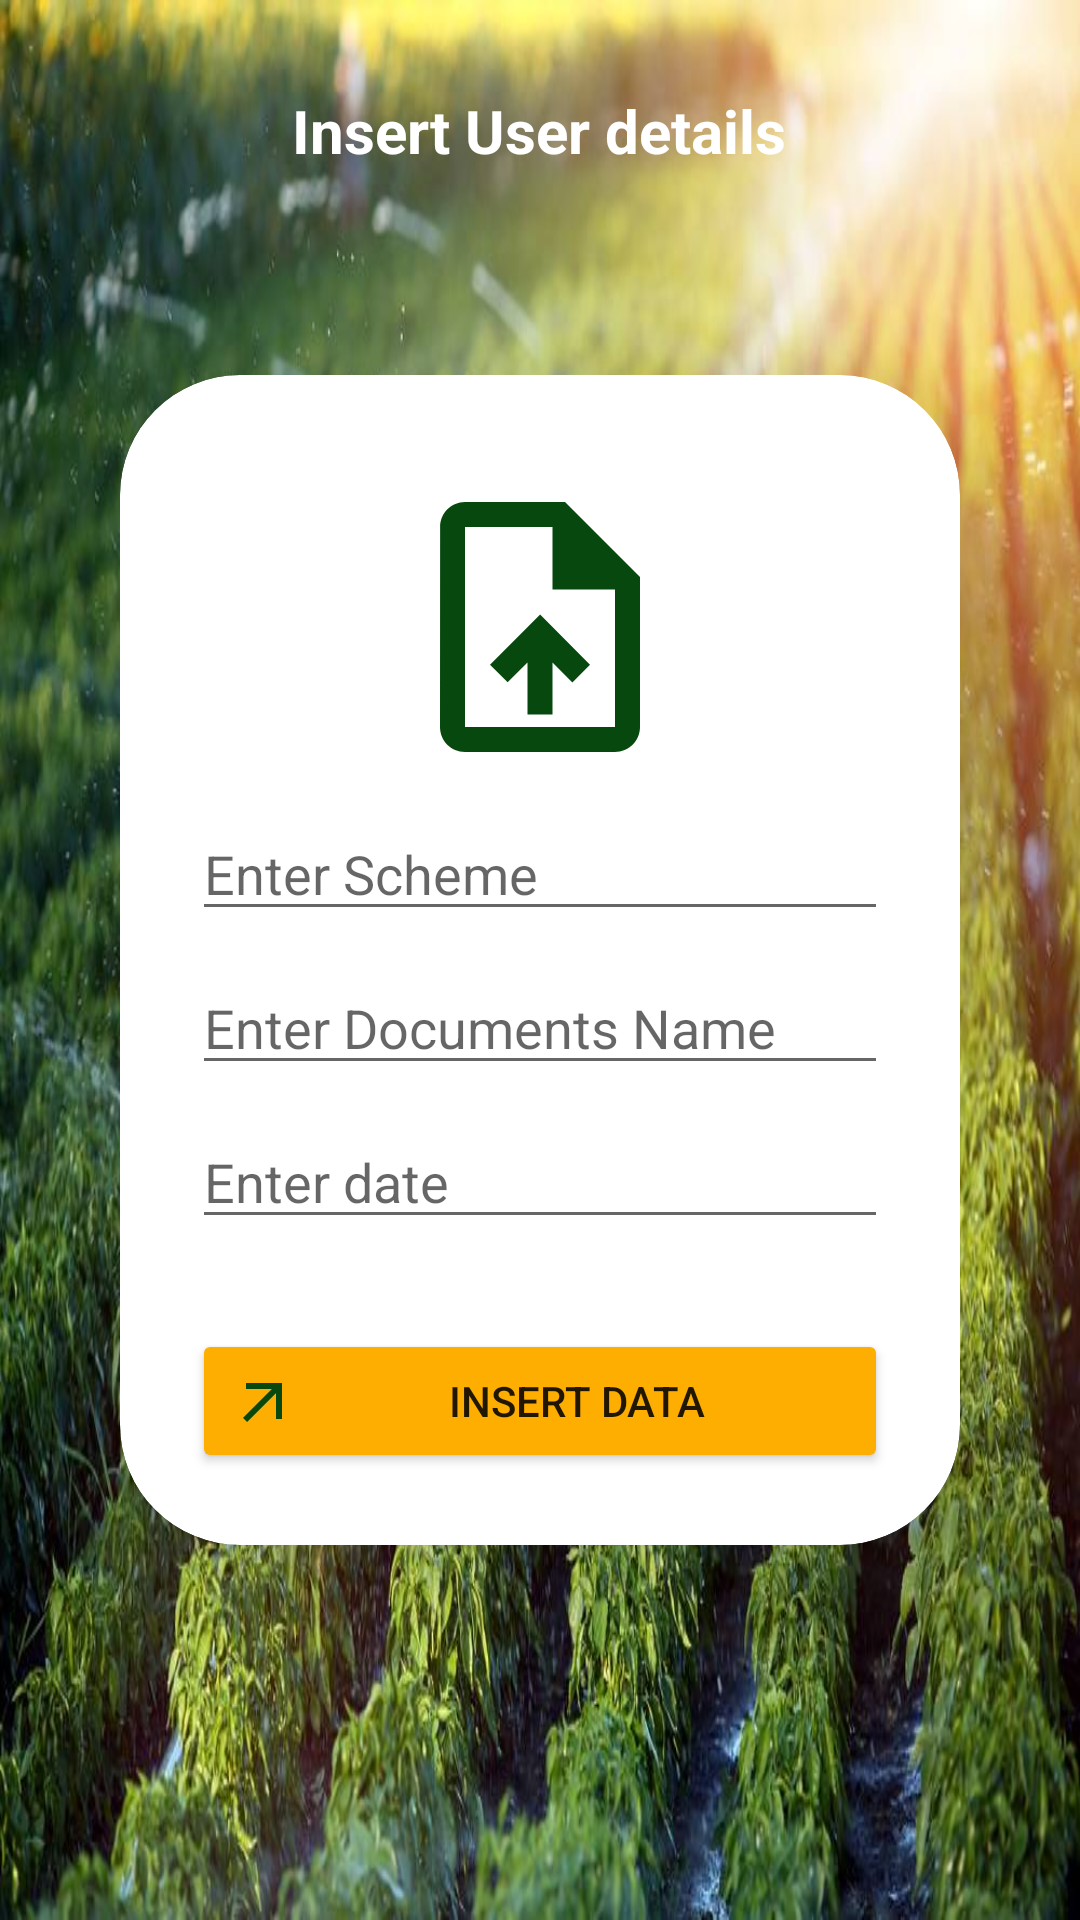

Screen size 1080x1920. Icon name, then its box in pixels as (x1, y1, x2, y2):
upload file: (440, 502, 640, 752)
